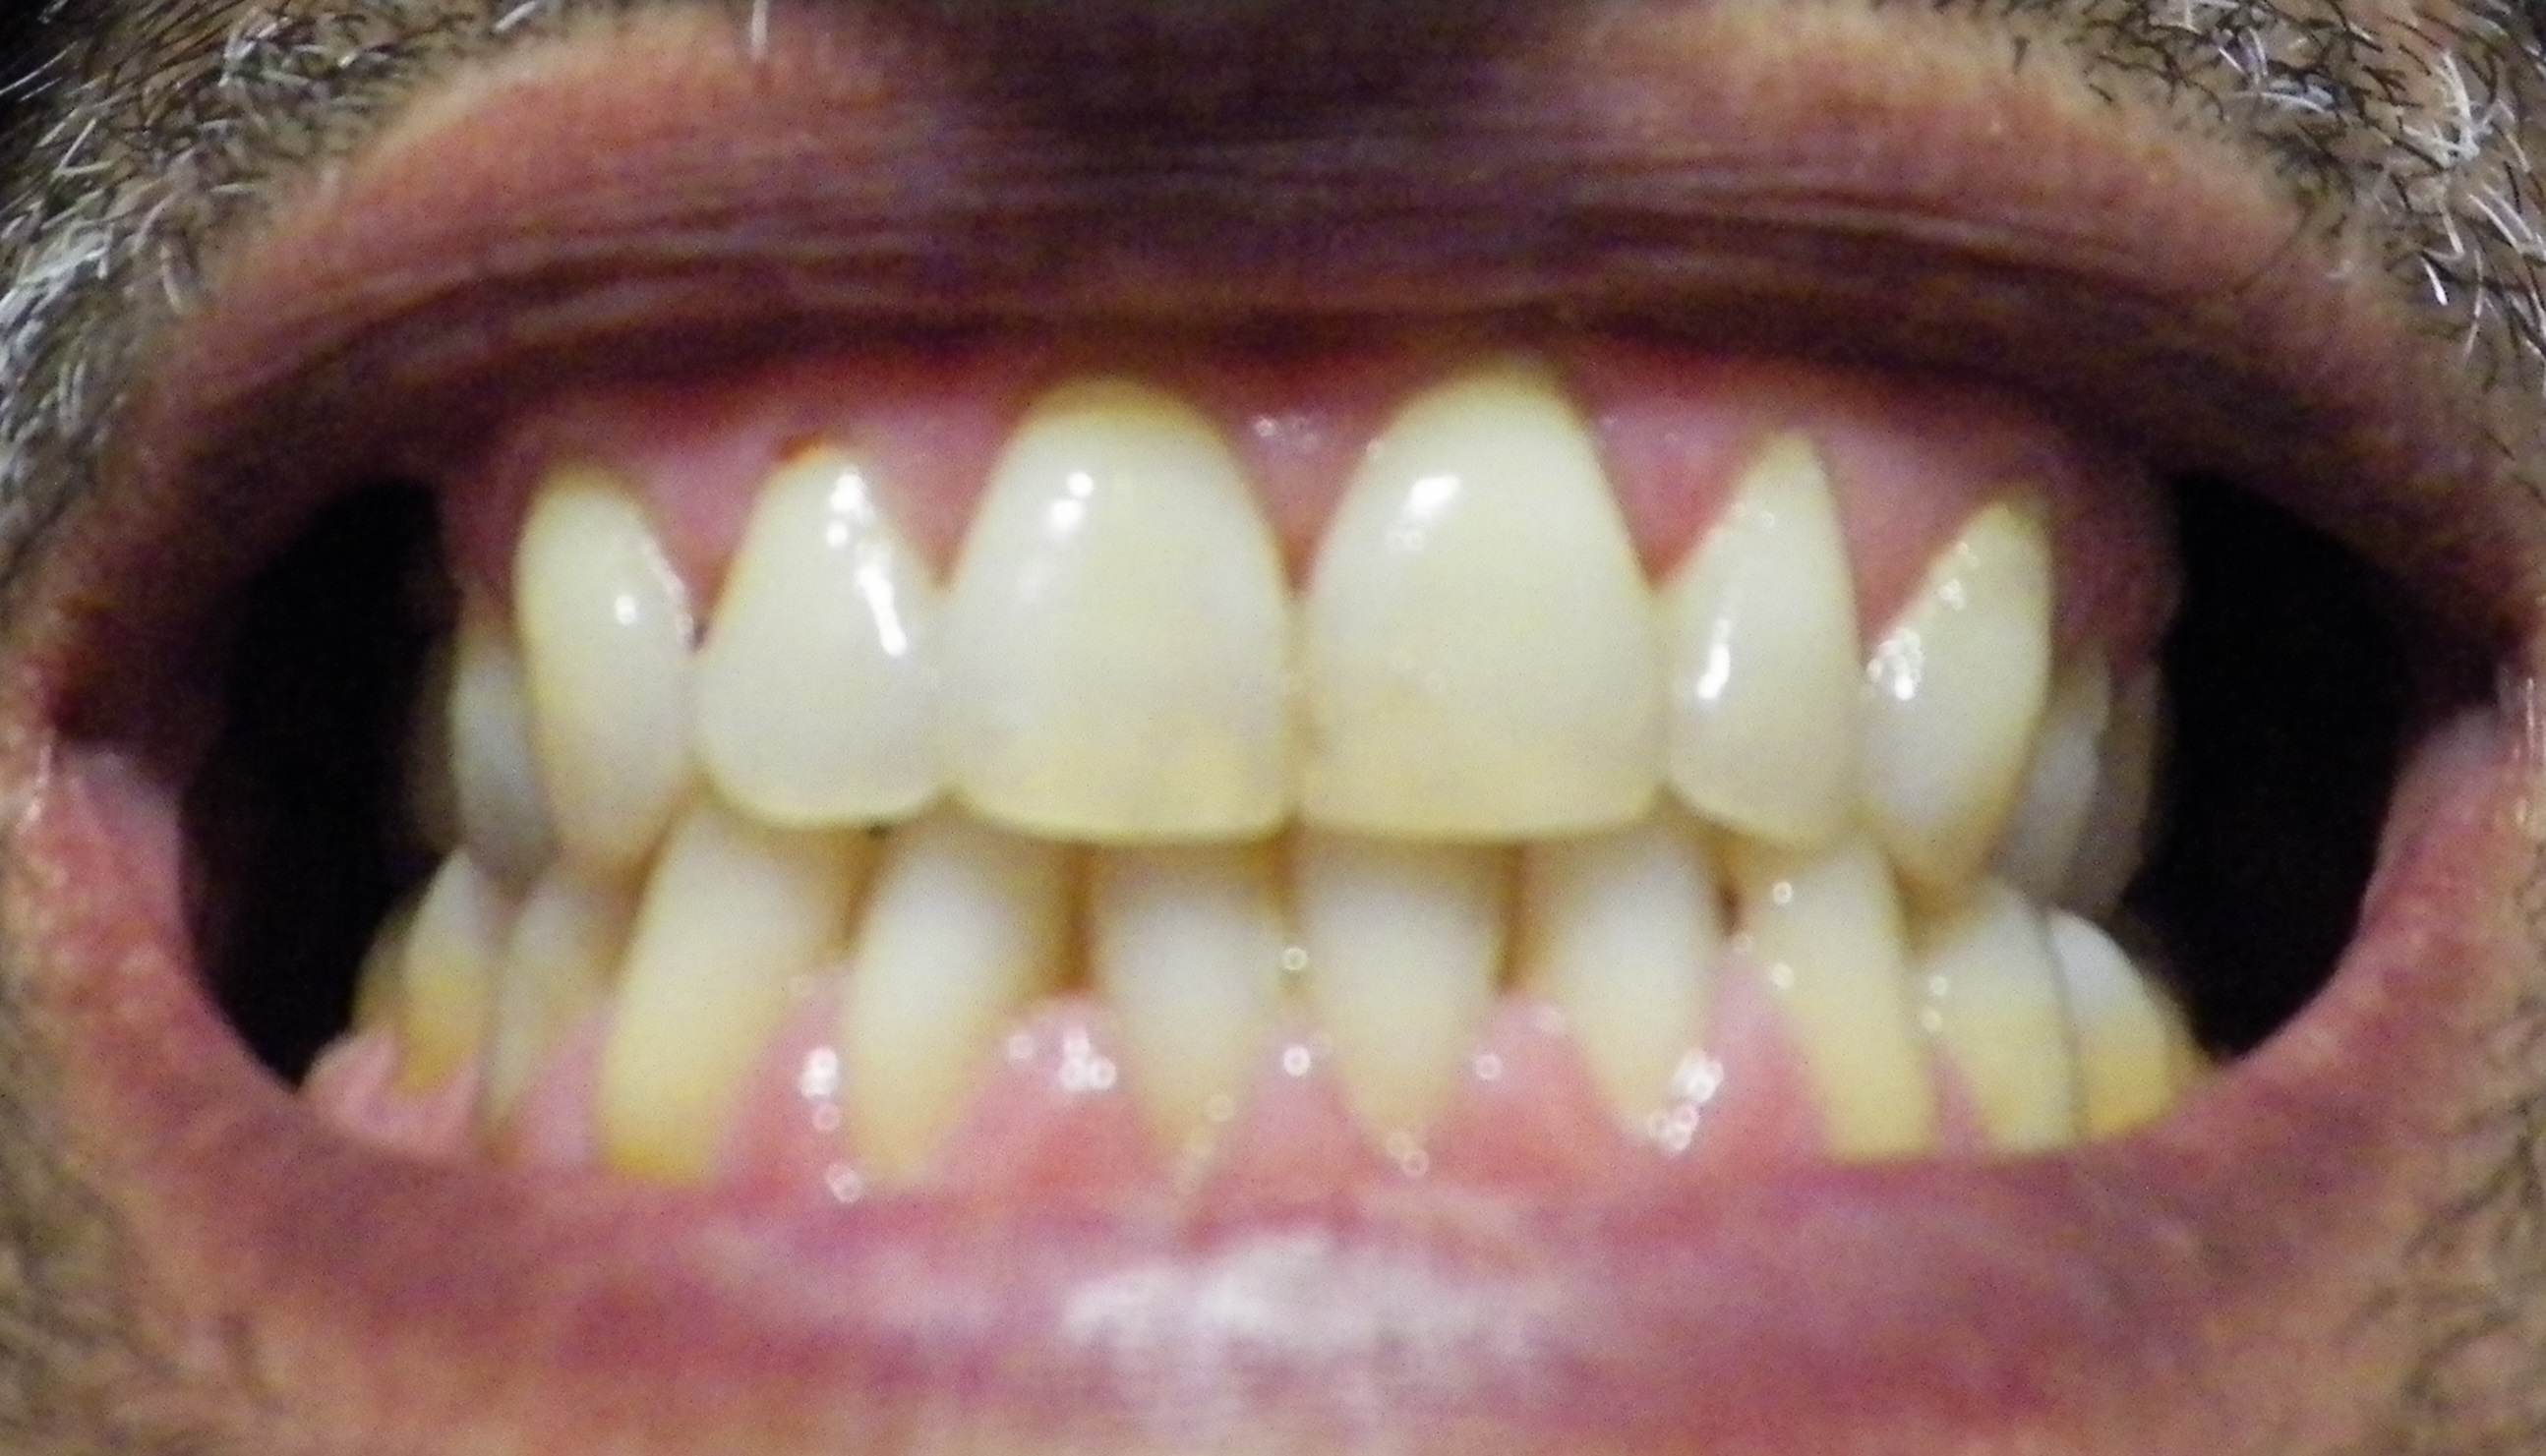boca: (378, 442, 2214, 1124)
